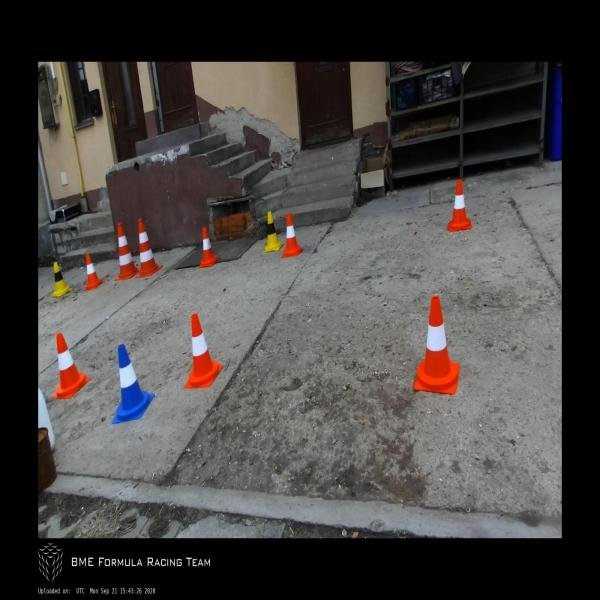blue_cone: (112, 344, 154, 424)
large_orange_cone: (135, 218, 163, 277), (114, 222, 140, 281)
orange_cone: (414, 296, 460, 394), (184, 313, 223, 388), (51, 332, 91, 398), (447, 179, 472, 232), (281, 213, 303, 257), (199, 226, 219, 268), (84, 253, 104, 290)
yellow_cone: (263, 210, 283, 252), (52, 262, 72, 297)
